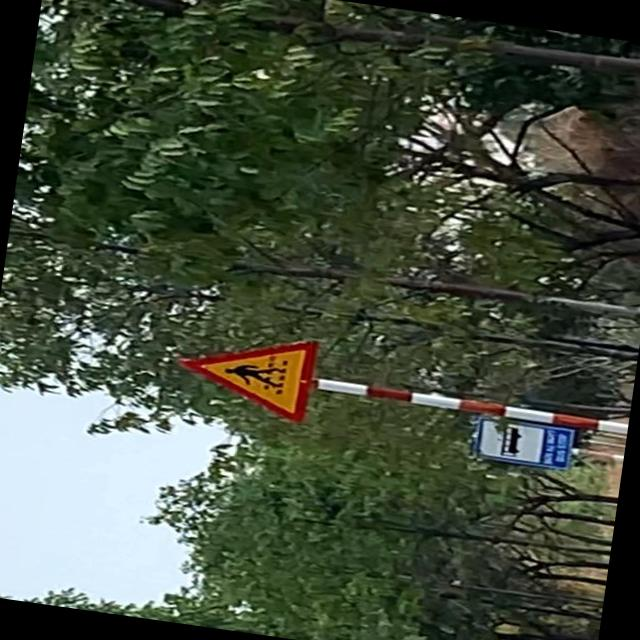W-224: (171, 320, 319, 422)
